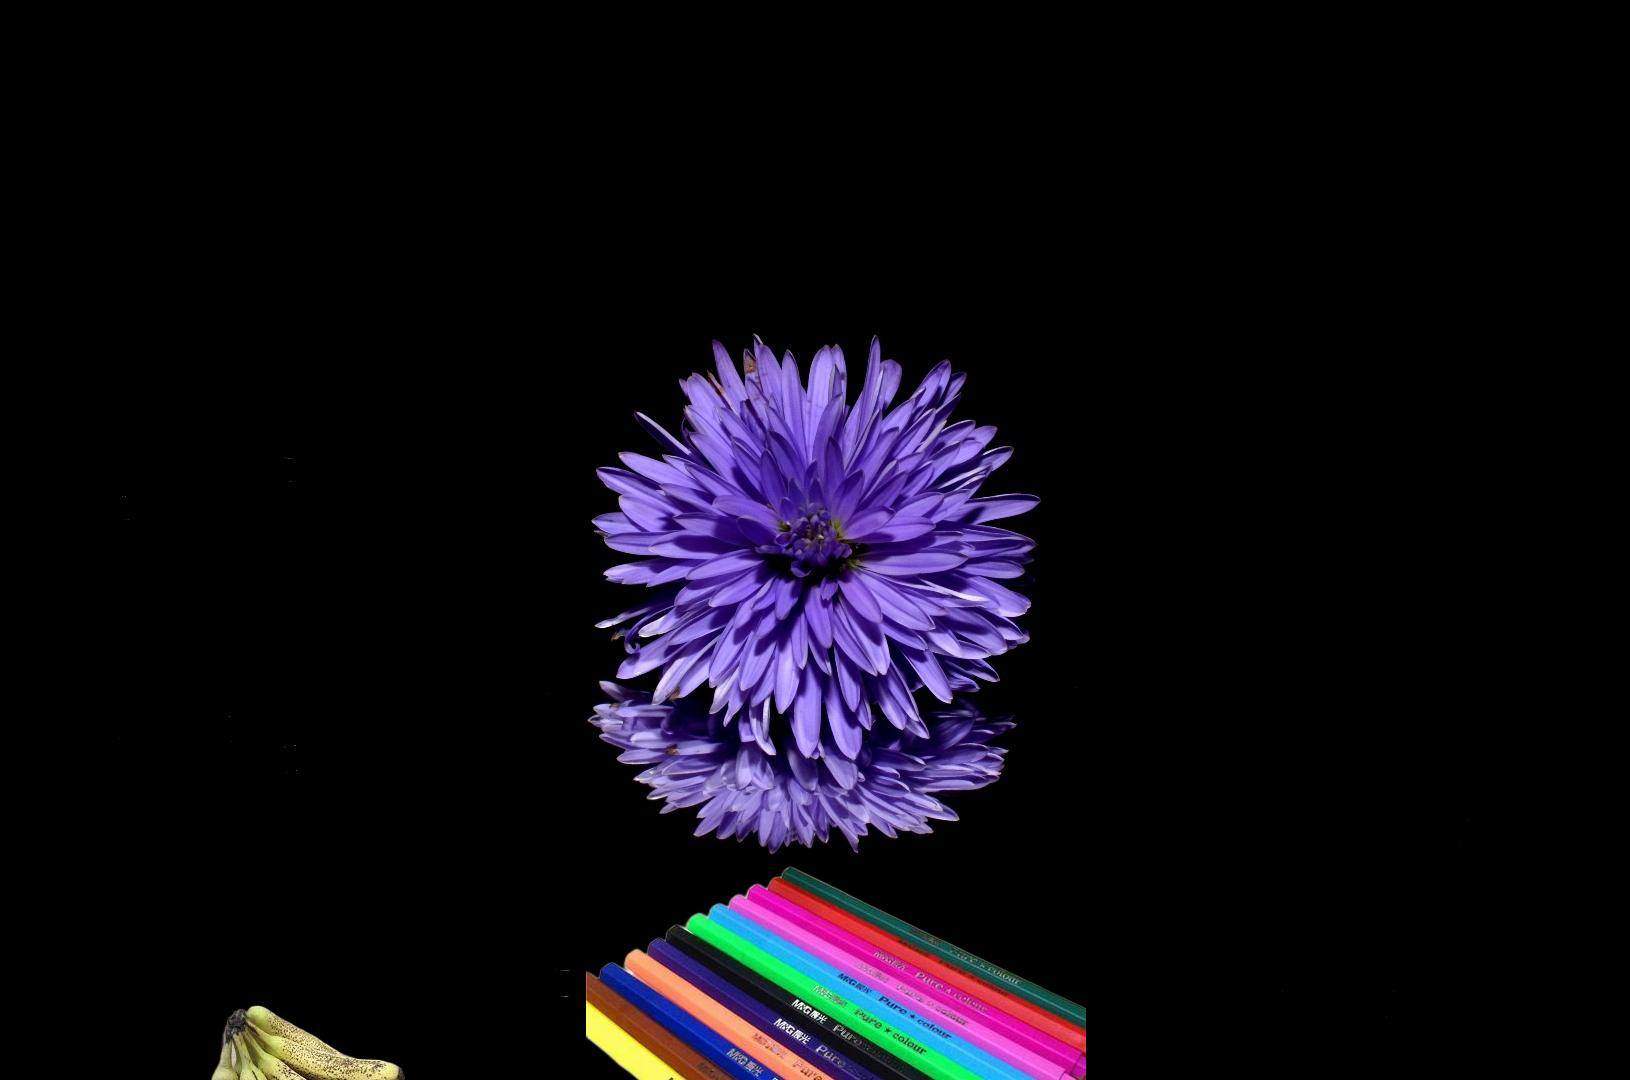biological: (207, 1003, 408, 1080)
penholder: (585, 862, 1085, 1080), (1613, 67, 1630, 1080)
